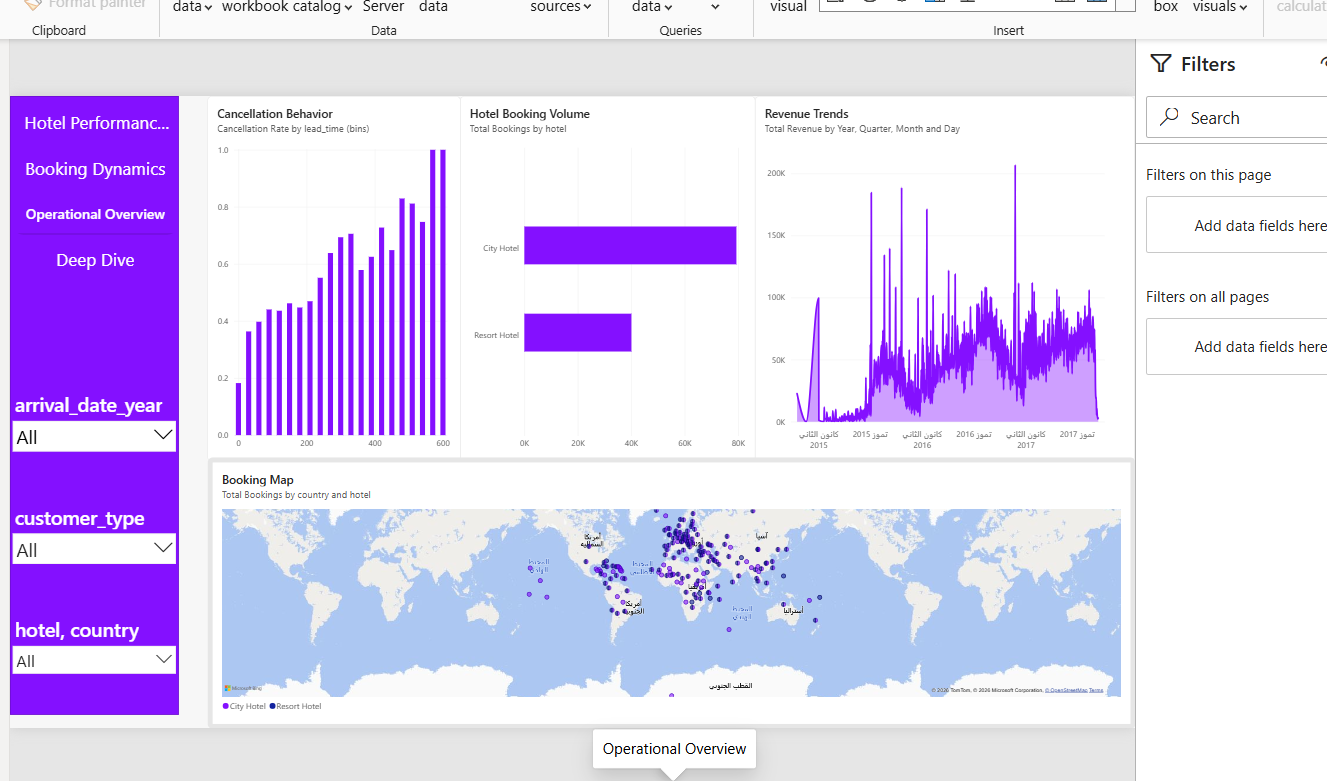

The dashboard page shown, as its layout file describes it:
{"tool":"powerbi","page":{"name":"Operational Overview","canvas":[1920,1080],"ordinal":2},"visuals":[{"type":"barChart","title":"Hotel Booking Volume","fields":{"Category":["Dim_Hotel.hotel"],"Y":["hotel_bookings.Total Bookings"]},"box":[768,0,504,624],"z":0},{"type":"areaChart","title":"Revenue Trends","fields":{"Category":["Dim_Date.Date.Variation.Date Hierarchy.Year","Dim_Date.Date.Variation.Date Hierarchy.Quarter","Dim_Date.Date.Variation.Date Hierarchy.Month","Dim_Date.Date.Variation.Date Hierarchy.Day"],"Y":["hotel_bookings.Total Revenue"]},"box":[1272,0,648,624],"z":1},{"type":"clusteredColumnChart","title":"Cancellation Behavior","fields":{"Category":["hotel_bookings.lead_time (bins)"],"Y":["hotel_bookings.Cancellation Rate"]},"box":[336,0,432,624],"z":2},{"type":"shape","box":[0,0,288,1056],"z":4},{"type":"slicer","fields":{"Values":["Dim_Hotel.hotel","hotel_bookings.country"]},"box":[0,888,288,120],"z":6},{"type":"slicer","fields":{"Values":["Dim_Customer.customer_type"]},"box":[0,696,288,120],"z":7},{"type":"slicer","fields":{"Values":["hotel_bookings.arrival_date_year"]},"box":[0,504,288,192],"z":8},{"type":"pageNavigator","box":[2.2,10.8,287.8,307.3],"z":9},{"type":"map","title":"Booking Map","fields":{"Category":["hotel_bookings.country"],"Series":["Dim_Hotel.hotel"],"Y":["hotel_bookings.Total Bookings"]},"box":[336,616,1584,464],"z":10}]}

Visuals, with their boxes on the page's 1920x1080 design canvas (x1, y1, x2, y2). These are canvas units, not pixel positions in the 1327x781 screenshot, which may show the page scaled, cropped or inside an application window:
"Hotel Booking Volume" barChart: 768:0:1272:624
"Revenue Trends" areaChart: 1272:0:1920:624
"Cancellation Behavior" clusteredColumnChart: 336:0:768:624
shape: 0:0:288:1056
slicer - Dim_Hotel.hotel x hotel_bookings.country: 0:888:288:1008
slicer - Dim_Customer.customer_type: 0:696:288:816
slicer - hotel_bookings.arrival_date_year: 0:504:288:696
pageNavigator: 2:11:290:318
"Booking Map" map: 336:616:1920:1080
